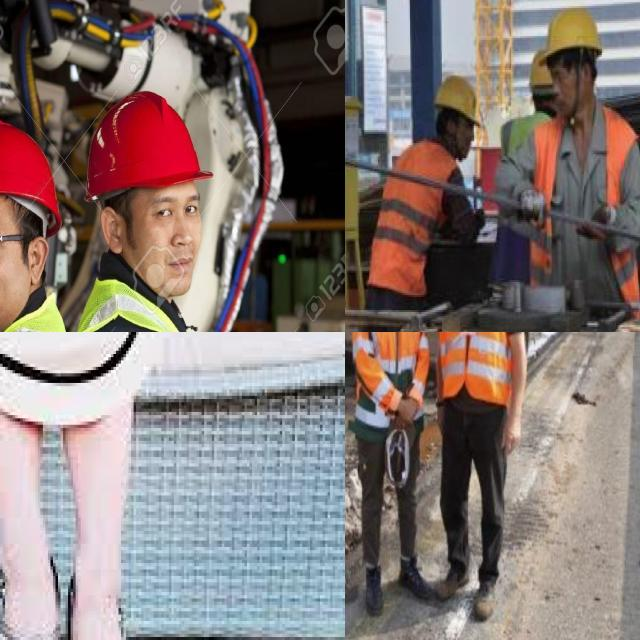No_Ear-Protection: (97, 203, 127, 260), (27, 230, 51, 288)
No_Glasses: (147, 191, 207, 231)
Sandals: (0, 528, 157, 640)
face_nomask: (130, 188, 208, 297), (0, 196, 37, 331), (550, 68, 586, 119), (442, 115, 477, 158)
hand_glove: (579, 202, 617, 246), (520, 180, 550, 230)
hand_noglove: (393, 387, 421, 431), (502, 402, 524, 454)
head_helmet: (85, 91, 213, 198), (0, 108, 46, 230), (534, 0, 611, 60), (432, 76, 479, 122), (525, 44, 556, 86)
person: (71, 90, 252, 332), (528, 0, 640, 321), (359, 73, 483, 332), (352, 332, 436, 604), (440, 332, 517, 592), (504, 54, 568, 298)
shoes: (396, 558, 433, 606), (434, 555, 470, 604), (469, 575, 500, 623), (361, 559, 384, 615)
vest: (531, 118, 640, 308), (360, 145, 463, 276), (355, 332, 431, 422), (440, 332, 523, 414)
